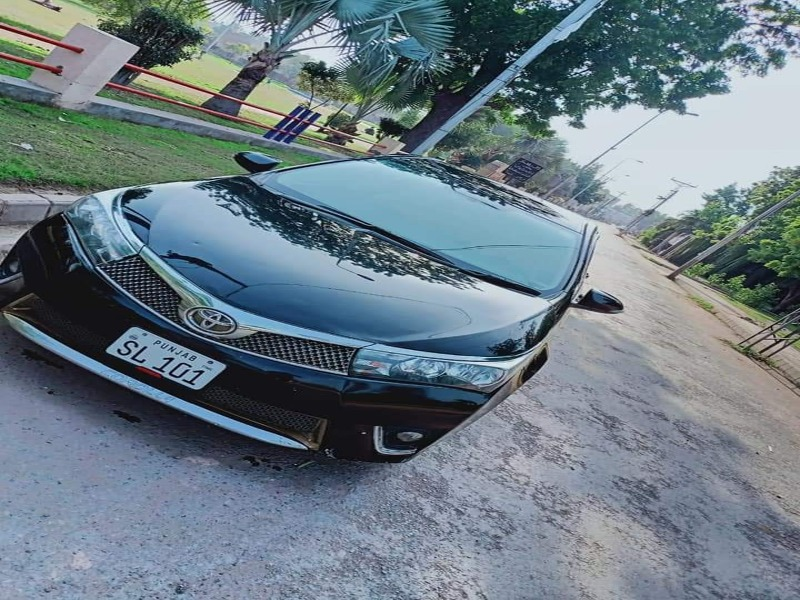License Plate: (104, 321, 229, 394)
